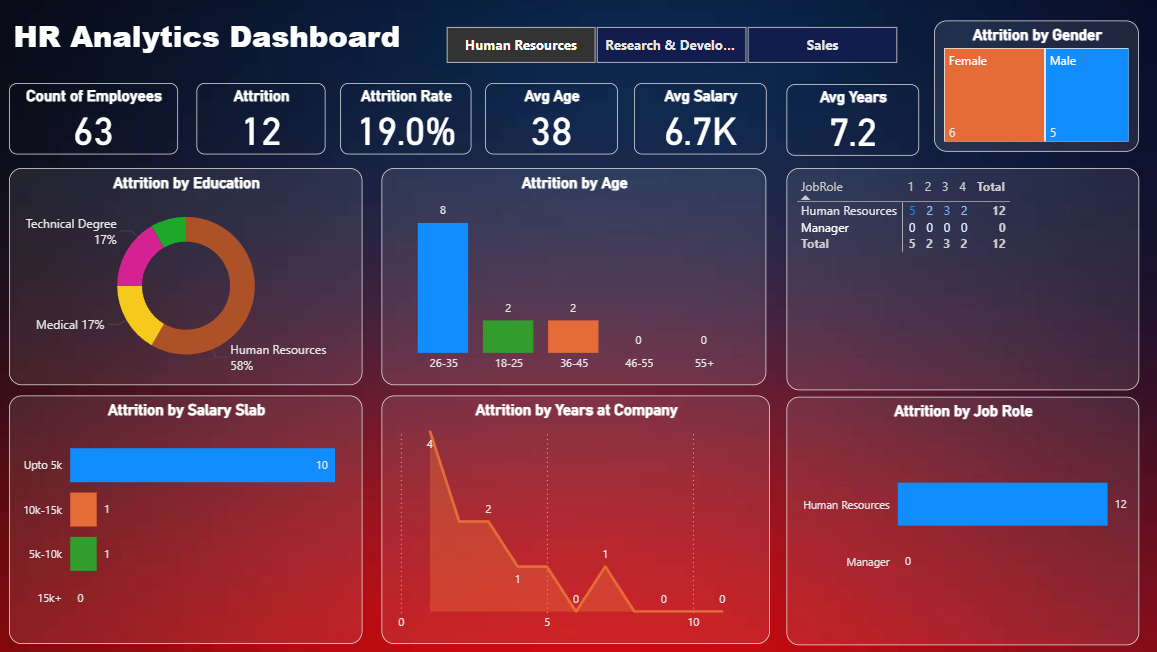

What the dashboard file says about the page in this screenshot:
{"tool":"powerbi","page":{"name":"Page 1","canvas":[1280,720],"ordinal":0},"visuals":[{"type":"card","title":"Count of Employees","fields":{"Values":["CountNonNull(HR_Analytics.EmpID)"]},"box":[11,93.3,185.2,78.2],"z":0},{"type":"card","title":"Avg Age","fields":{"Values":["Avg(HR_Analytics.Age)"]},"box":[533.8,93.3,145.5,78.2],"z":1000},{"type":"card","title":"Attrition Rate","fields":{"Values":["HR_Analytics.AttritionRate"]},"box":[374.6,93.3,144.1,78.2],"z":2000},{"type":"card","title":"Attrition","fields":{"Values":["Sum(HR_Analytics.AttritionCount)"]},"box":[216.8,93.3,141.3,78.2],"z":3000},{"type":"card","title":"Avg Years","fields":{"Values":["Avg(HR_Analytics.YearsAtCompany)"]},"box":[864.5,94.7,145.5,78.2],"z":4000},{"type":"card","title":"Avg Salary","fields":{"Values":["Avg(HR_Analytics.MonthlyIncome)"]},"box":[697.1,93.3,145.5,78.2],"z":5000},{"type":"donutChart","title":"Attrition by Education","fields":{"Category":["HR_Analytics.EducationField"],"Y":["Sum(HR_Analytics.AttritionCount)"]},"box":[11,186.6,388.3,238.8],"z":6000},{"type":"columnChart","title":"Attrition by Age","fields":{"Category":["HR_Analytics.AgeGroup"],"Y":["Sum(HR_Analytics.AttritionCount)"]},"box":[419.9,186.6,422.6,238.8],"z":7000},{"type":"pivotTable","fields":{"Rows":["HR_Analytics.JobRole"],"Columns":["HR_Analytics.JobSatisfaction"],"Values":["Sum(HR_Analytics.AttritionCount)"]},"box":[864.5,186.6,387,244.3],"z":8000},{"type":"barChart","title":"Attrition by Salary Slab","fields":{"Category":["HR_Analytics.SalarySlab"],"Y":["Sum(HR_Analytics.AttritionCount)"]},"box":[11,436.4,388.3,273.1],"z":9000},{"type":"barChart","title":"Attrition by Job Role","fields":{"Category":["HR_Analytics.JobRole"],"Y":["Sum(HR_Analytics.AttritionCount)"]},"box":[864.5,437.7,387,273.1],"z":10000},{"type":"areaChart","title":"Attrition by Years at Company","fields":{"Category":["HR_Analytics.YearsAtCompany"],"Y":["Sum(HR_Analytics.AttritionCount)"]},"box":[419.9,436.4,426.8,273.1],"z":11000},{"type":"treemap","title":"Attrition by Gender","fields":{"Group":["HR_Analytics.Gender"],"Values":["Sum(HR_Analytics.AttritionCount)"]},"box":[1026.4,24.7,225,144.1],"z":12000},{"type":"slicer","fields":{"Values":["HR_Analytics.Department"]},"box":[465.2,24.7,544.8,53.5],"z":13000},{"type":"textbox","box":[11,13.7,463.8,64.5],"z":14000}]}

Visuals, with their boxes in screenshot pixels (x1, y1, x2, y2), scaled from the page's 1280x720 canvas onto the 1157x652 screenshot:
"Count of Employees" card: left=10, top=84, right=177, bottom=155
"Avg Age" card: left=483, top=84, right=614, bottom=155
"Attrition Rate" card: left=339, top=84, right=469, bottom=155
"Attrition" card: left=196, top=84, right=324, bottom=155
"Avg Years" card: left=781, top=86, right=913, bottom=157
"Avg Salary" card: left=630, top=84, right=762, bottom=155
"Attrition by Education" donutChart: left=10, top=169, right=361, bottom=385
"Attrition by Age" columnChart: left=380, top=169, right=762, bottom=385
pivotTable - HR_Analytics.JobRole x HR_Analytics.JobSatisfaction: left=781, top=169, right=1131, bottom=390
"Attrition by Salary Slab" barChart: left=10, top=395, right=361, bottom=642
"Attrition by Job Role" barChart: left=781, top=396, right=1131, bottom=644
"Attrition by Years at Company" areaChart: left=380, top=395, right=765, bottom=642
"Attrition by Gender" treemap: left=928, top=22, right=1131, bottom=153
slicer - HR_Analytics.Department: left=420, top=22, right=913, bottom=71
textbox: left=10, top=12, right=429, bottom=71
